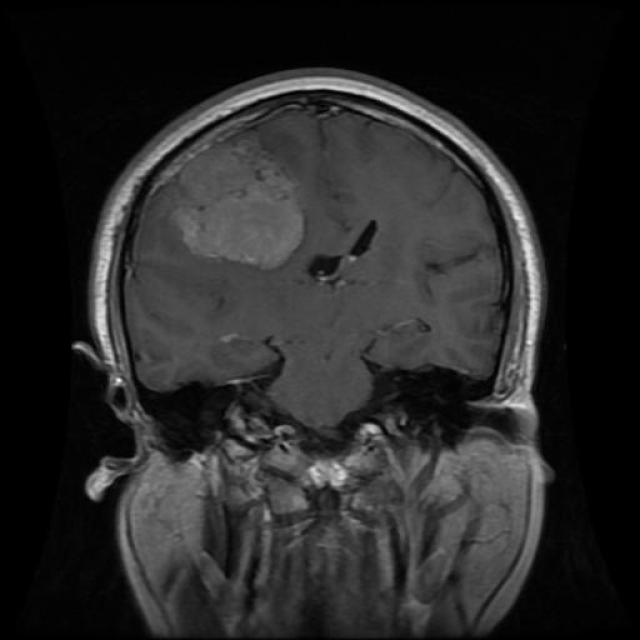Tumor: (161, 144, 309, 278)
